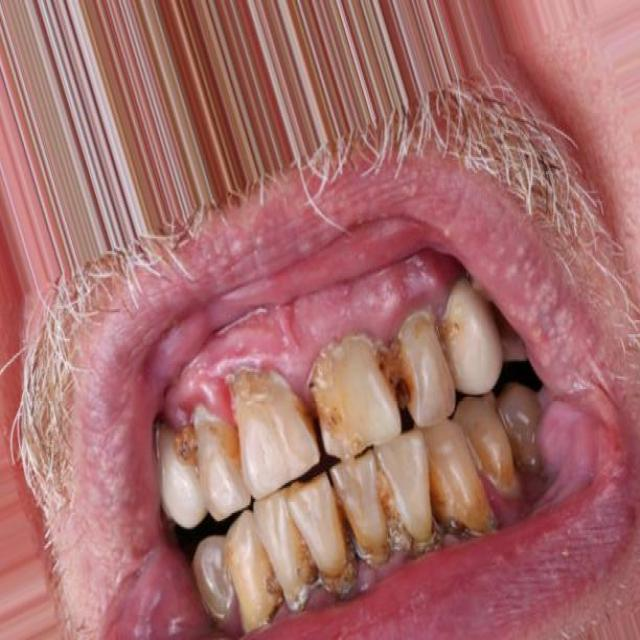caries: (375, 346, 419, 417)
